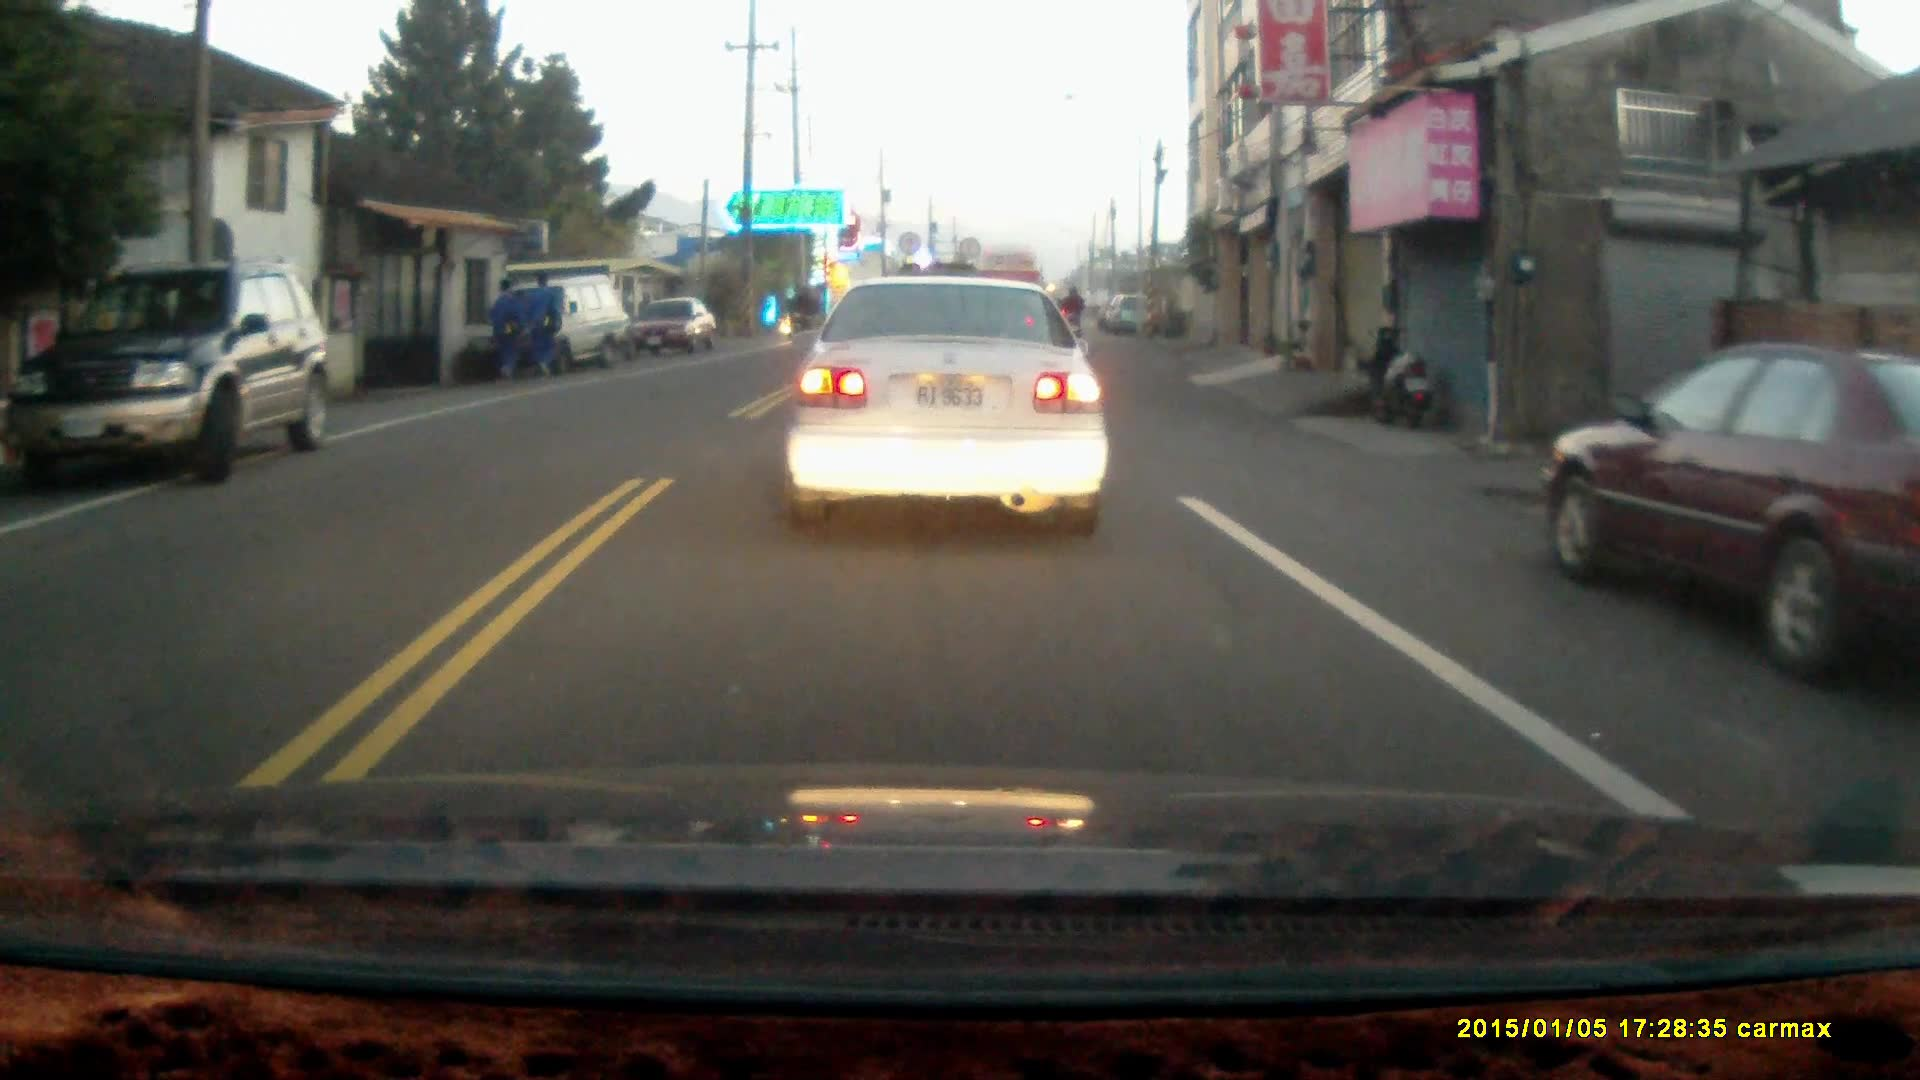pedestrian: (489, 273, 527, 390), (526, 264, 561, 380)
rider: (786, 282, 820, 340)
vehicle: (1556, 340, 1920, 683), (784, 268, 1113, 536), (23, 265, 337, 483), (502, 271, 640, 367), (623, 298, 719, 362)
